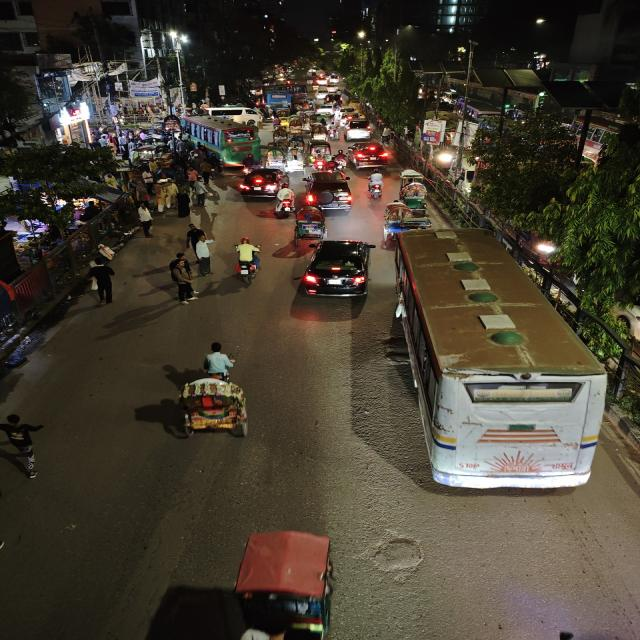bus: (393, 227, 608, 499), (190, 117, 262, 163), (264, 87, 294, 111)
car: (299, 236, 377, 302), (303, 172, 357, 212), (236, 166, 287, 198), (347, 140, 392, 168), (342, 119, 376, 141), (338, 107, 360, 120)
motorcycle: (231, 237, 260, 282), (363, 170, 387, 200), (275, 186, 297, 218), (328, 151, 347, 171)
pedestrian: (0, 411, 54, 483), (162, 251, 198, 305), (82, 259, 120, 306), (192, 237, 216, 277), (157, 178, 178, 213), (183, 223, 206, 253), (134, 203, 154, 237), (173, 188, 193, 218)
rickshaw: (157, 343, 262, 442), (382, 200, 426, 236), (292, 206, 328, 244), (397, 180, 433, 212), (305, 140, 330, 168), (263, 145, 289, 169), (286, 116, 310, 136), (308, 122, 330, 142)
